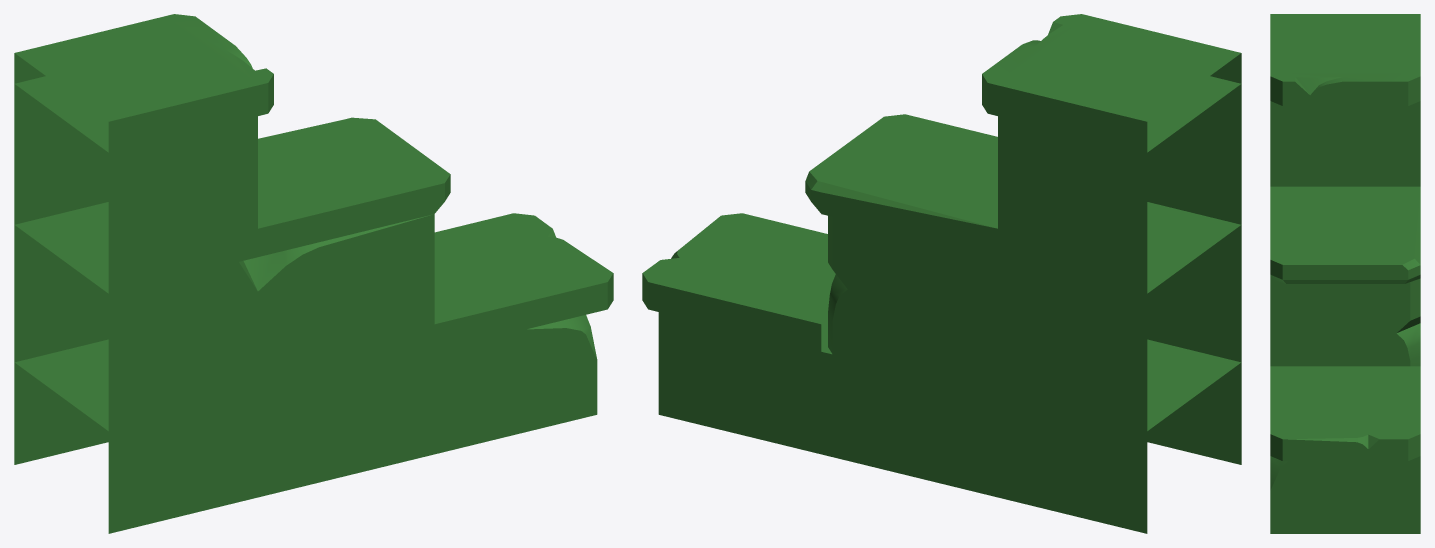
File: OBJ_Stairs_01.FBX
3 renders of one model, left to right at view 1: azimuth 30°, elevation 25°; view 2: azimuth 150°, elevation 25°; view 3: azimuth 270°, elevation 25°, orthographic. The views are drawn at different scales.
Parts seen in each view (by area): view 1: OBJ_Stairs_01; view 2: OBJ_Stairs_01; view 3: OBJ_Stairs_01.
Part boxes in pixels (x1,y1,x2,y2): OBJ_Stairs_01: (14, 14, 613, 533); OBJ_Stairs_01: (642, 14, 1241, 533); OBJ_Stairs_01: (1270, 14, 1420, 533).
Bounding box in the file's own units: 18.88 × 14.5 × 6.
